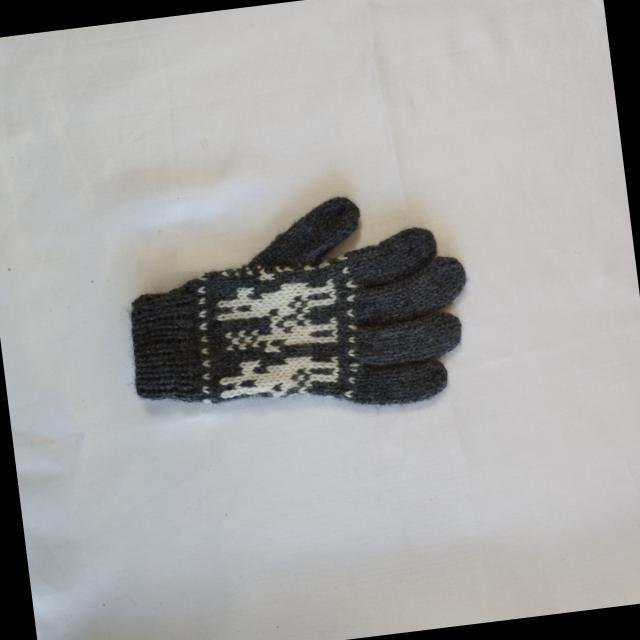Guante: (113, 181, 480, 439)
